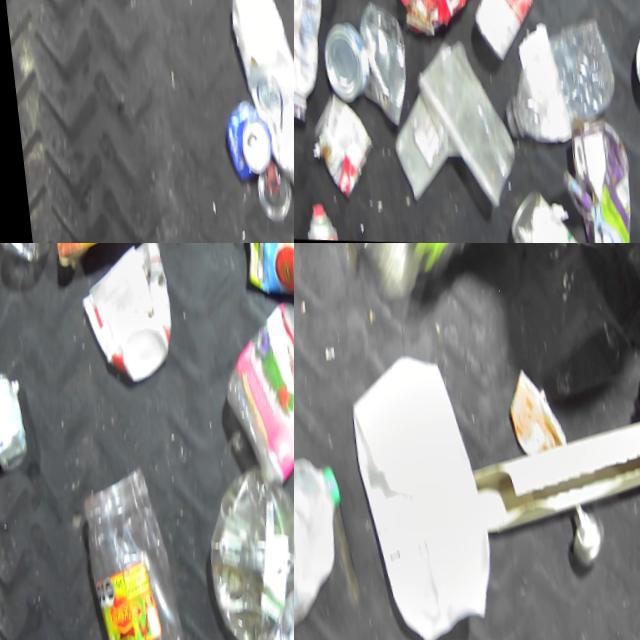can: (294, 90, 369, 207), (338, 0, 404, 131), (455, 0, 533, 66), (207, 99, 265, 186), (309, 18, 365, 107), (490, 184, 572, 243), (234, 243, 294, 299), (0, 365, 28, 475), (240, 161, 283, 226), (616, 15, 640, 106)
milk_jug: (328, 353, 501, 640), (294, 454, 348, 640)
plastic_bottle: (184, 462, 294, 640), (482, 13, 614, 151)
